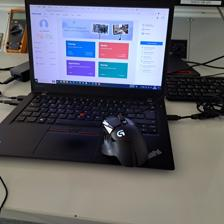mouse: (98, 112, 149, 167)
